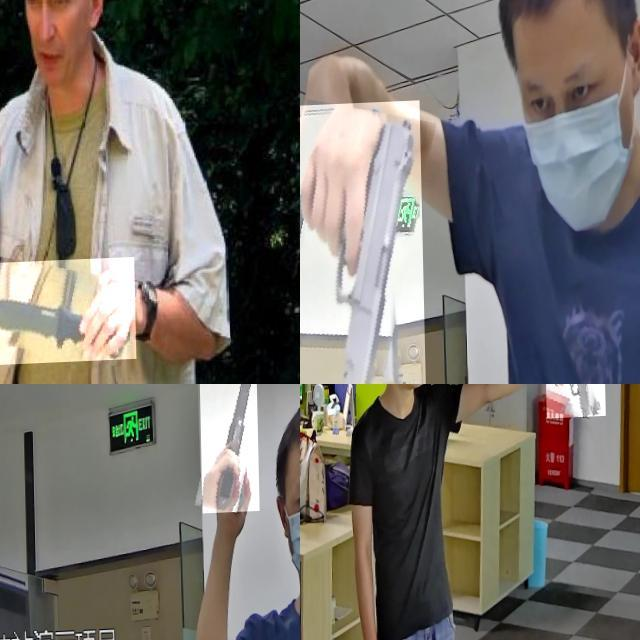-: (0, 260, 133, 367)
gun-knife-thesis - v11 Yolov5 augmented: (300, 102, 423, 384), (197, 384, 257, 515), (544, 384, 604, 431)
